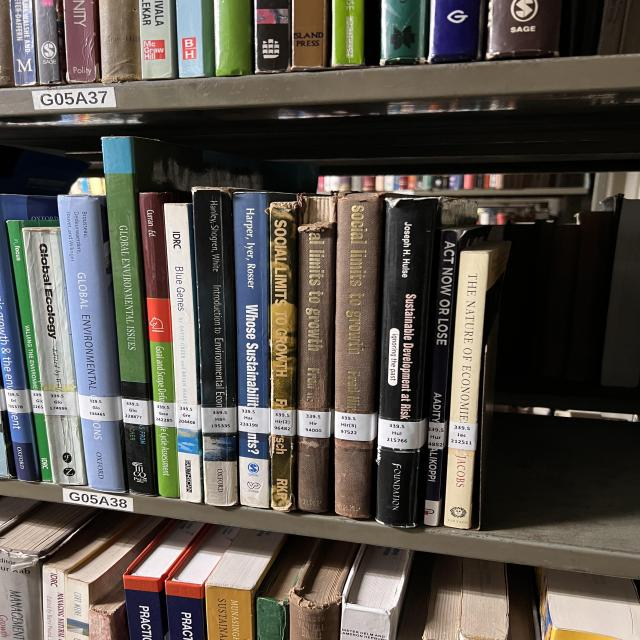Book: (102, 136, 260, 495), (377, 199, 475, 528), (58, 195, 127, 492), (233, 192, 295, 508), (443, 241, 510, 529), (192, 186, 250, 506), (0, 504, 132, 640), (23, 228, 87, 485), (0, 195, 57, 481), (335, 194, 385, 519), (138, 192, 180, 498), (297, 195, 337, 512), (42, 511, 138, 640), (163, 202, 202, 502), (65, 516, 167, 624), (268, 201, 298, 511), (205, 529, 287, 640), (425, 236, 455, 526), (165, 525, 240, 640), (537, 568, 640, 640), (340, 545, 413, 640), (257, 536, 318, 640), (487, 0, 562, 60), (132, 520, 203, 578), (460, 558, 508, 640), (428, 0, 485, 64), (98, 0, 142, 82), (422, 554, 462, 640), (138, 0, 178, 79), (63, 0, 100, 84), (380, 0, 427, 65), (177, 0, 215, 78), (33, 0, 67, 85), (215, 0, 253, 76), (288, 588, 342, 640), (253, 0, 290, 74), (292, 0, 328, 71), (88, 581, 130, 640), (10, 0, 37, 86), (332, 0, 365, 68)
Label: (378, 419, 427, 449), (335, 411, 377, 441), (78, 395, 122, 421), (297, 410, 332, 438), (42, 391, 78, 416), (238, 406, 270, 434), (448, 421, 477, 451), (202, 408, 237, 432), (122, 399, 153, 425), (270, 409, 297, 436), (175, 402, 200, 430), (5, 389, 32, 414), (153, 401, 175, 428), (428, 422, 447, 450), (30, 390, 43, 414)
